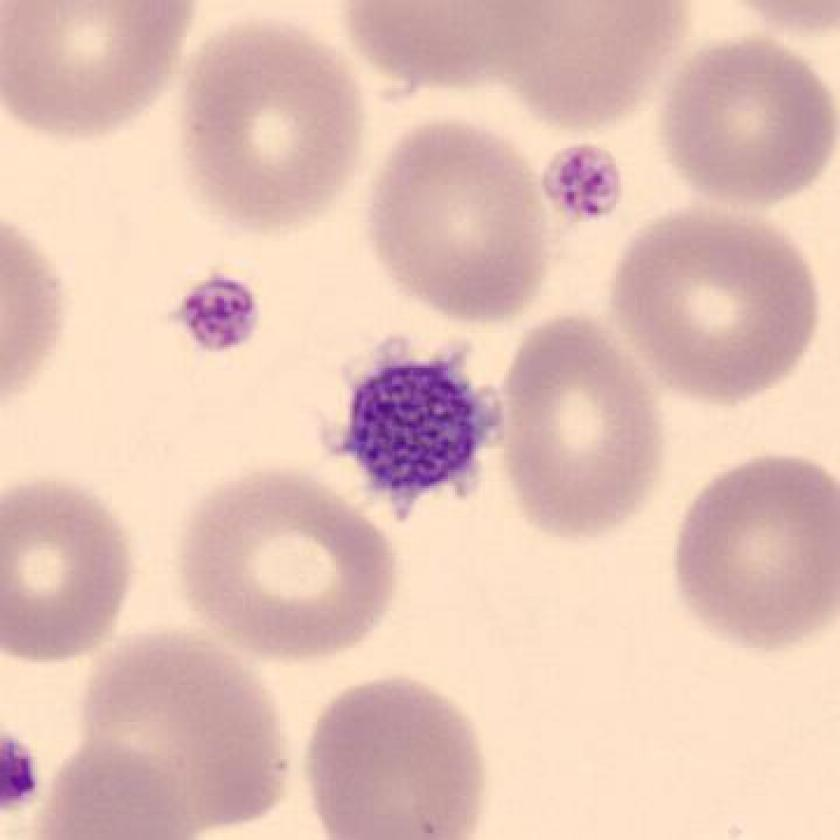platelets: (318, 330, 517, 529), (160, 258, 279, 369), (531, 131, 638, 240)
